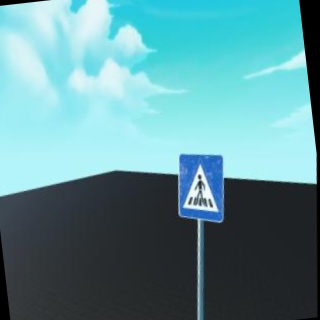crosswalk: (171, 148, 232, 228)
